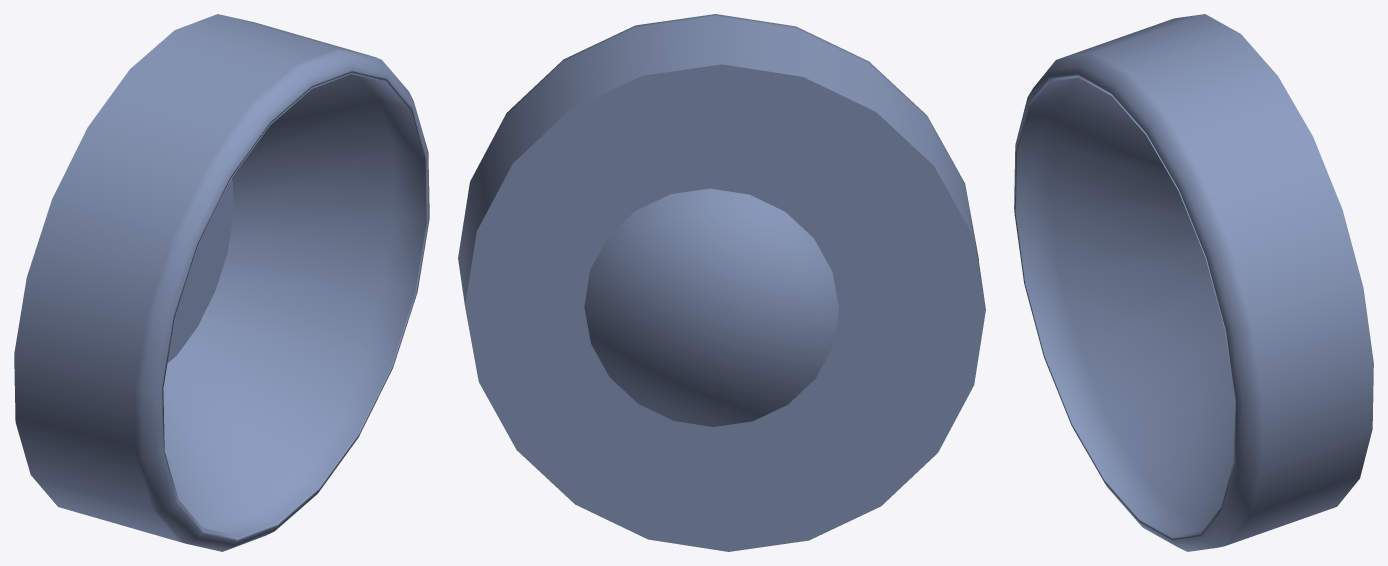
The model's file is TR2_8shapes_Round_Classic_Metal.001 2.glb.
3 renders of one model, left to right at view 1: azimuth 30°, elevation 25°; view 2: azimuth 150°, elevation 25°; view 3: azimuth 270°, elevation 25°, orthographic.
Visible parts, largest first — view 1: TR2_8shapes_Round_Classic_Metal.001; view 2: TR2_8shapes_Round_Classic_Metal.001; view 3: TR2_8shapes_Round_Classic_Metal.001.
Boxes of the visible parts, bbox=[...] form: TR2_8shapes_Round_Classic_Metal.001: bbox=[14, 14, 429, 551]; TR2_8shapes_Round_Classic_Metal.001: bbox=[458, 14, 985, 551]; TR2_8shapes_Round_Classic_Metal.001: bbox=[1014, 14, 1373, 551].
Size of the model in its own units: 0.5752 by 0.5642 by 0.3864.
